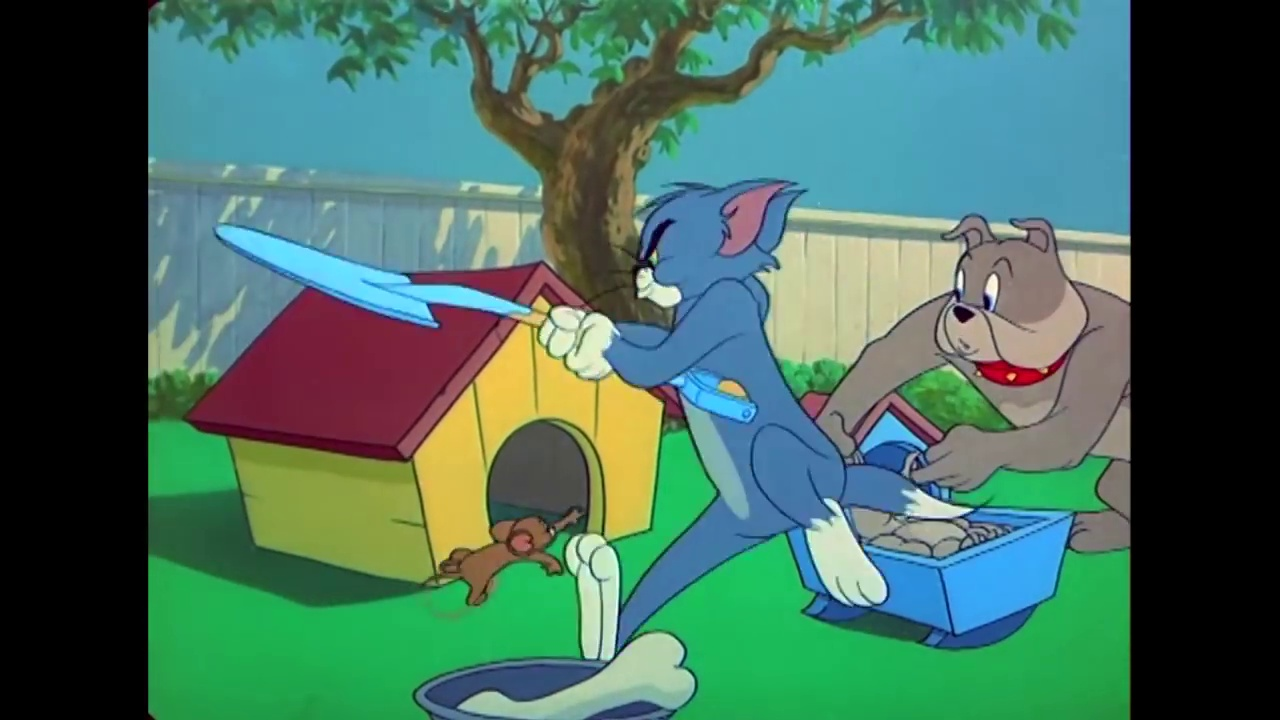spike: (927, 210, 1091, 391)
tom: (620, 175, 818, 310)
